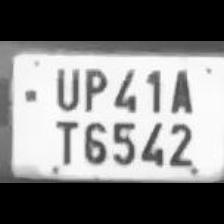1: (139, 65, 165, 113)
2: (164, 116, 196, 168)
4: (110, 62, 140, 113), (138, 116, 167, 166)
5: (107, 116, 137, 166)
6: (78, 118, 108, 166)
A: (164, 64, 196, 116)
P: (78, 63, 108, 113)
T: (47, 114, 79, 166)
U: (51, 64, 81, 110)
